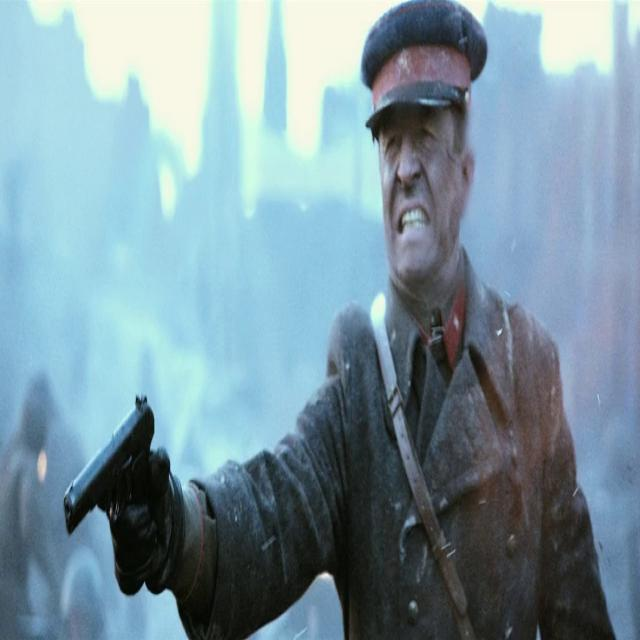gun-knife-thesis - v11 Yolov5 augmented: (58, 395, 178, 587)
